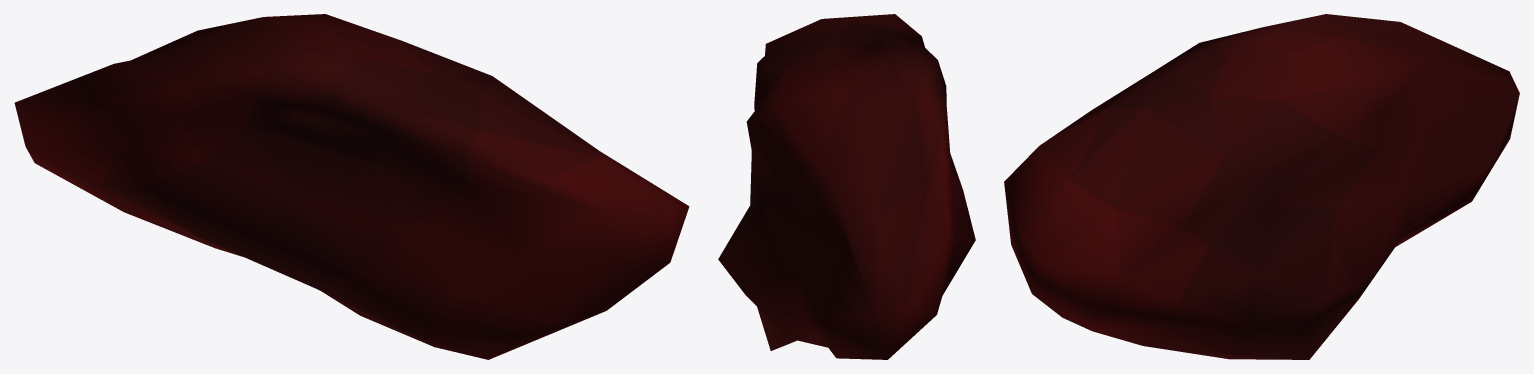
The model's file is geology-rocks-asteroidsmall_v2.fbx.
3 views of the same model, side by side, from view 1: azimuth 30°, elevation 25°; view 2: azimuth 150°, elevation 25°; view 3: azimuth 270°, elevation 25° (orthographic). The views are drawn at different scales.
Visible parts, largest first — view 1: AsteroidSmall_v2; view 2: AsteroidSmall_v2; view 3: AsteroidSmall_v2.
Boxes of the visible parts, box(x1,y1,x2,y2) form: AsteroidSmall_v2: box(14, 14, 689, 359); AsteroidSmall_v2: box(718, 14, 975, 359); AsteroidSmall_v2: box(1004, 14, 1519, 359).
Size of the model in its own units: 0.4768 by 0.339 by 0.562.
